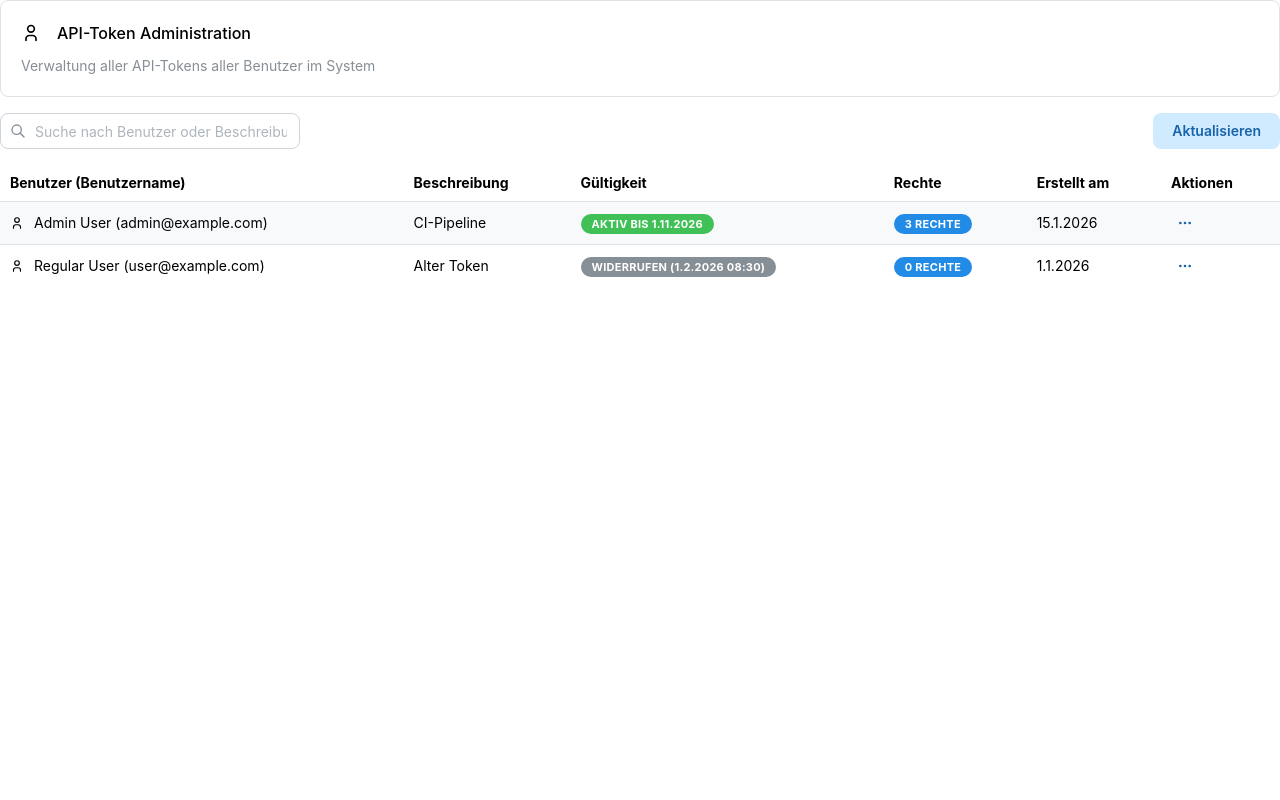
ApiTokenAdminList › zeigt die Backend-Meldung, wenn das Löschen fehlschlägt
Expected: the text "CI-Pipeline" is shown, x1=404 y1=201 x2=571 y2=244
Click the button without text in the row of "Admin User": click(1185, 223) x1=1171 y1=209 x2=1199 y2=237
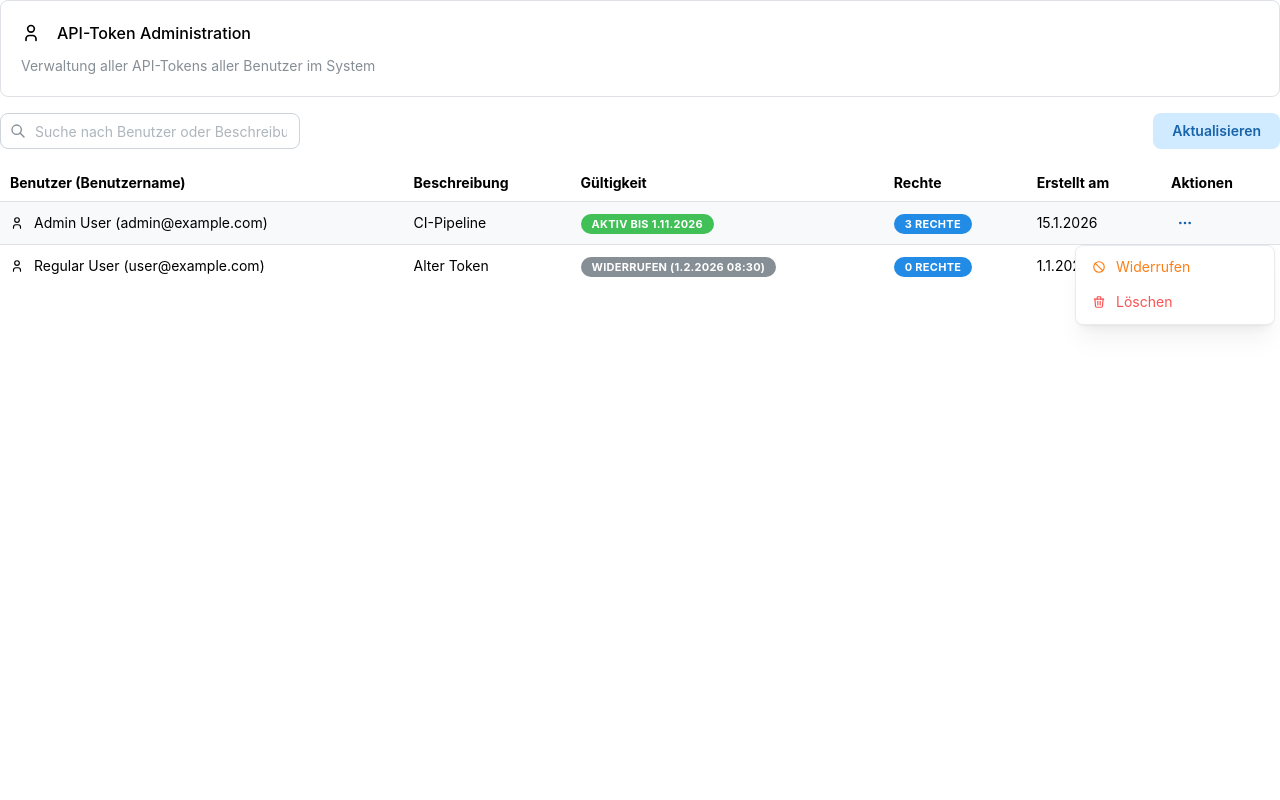
Click the menu item "Löschen": click(1175, 302) x1=1080 y1=285 x2=1270 y2=320
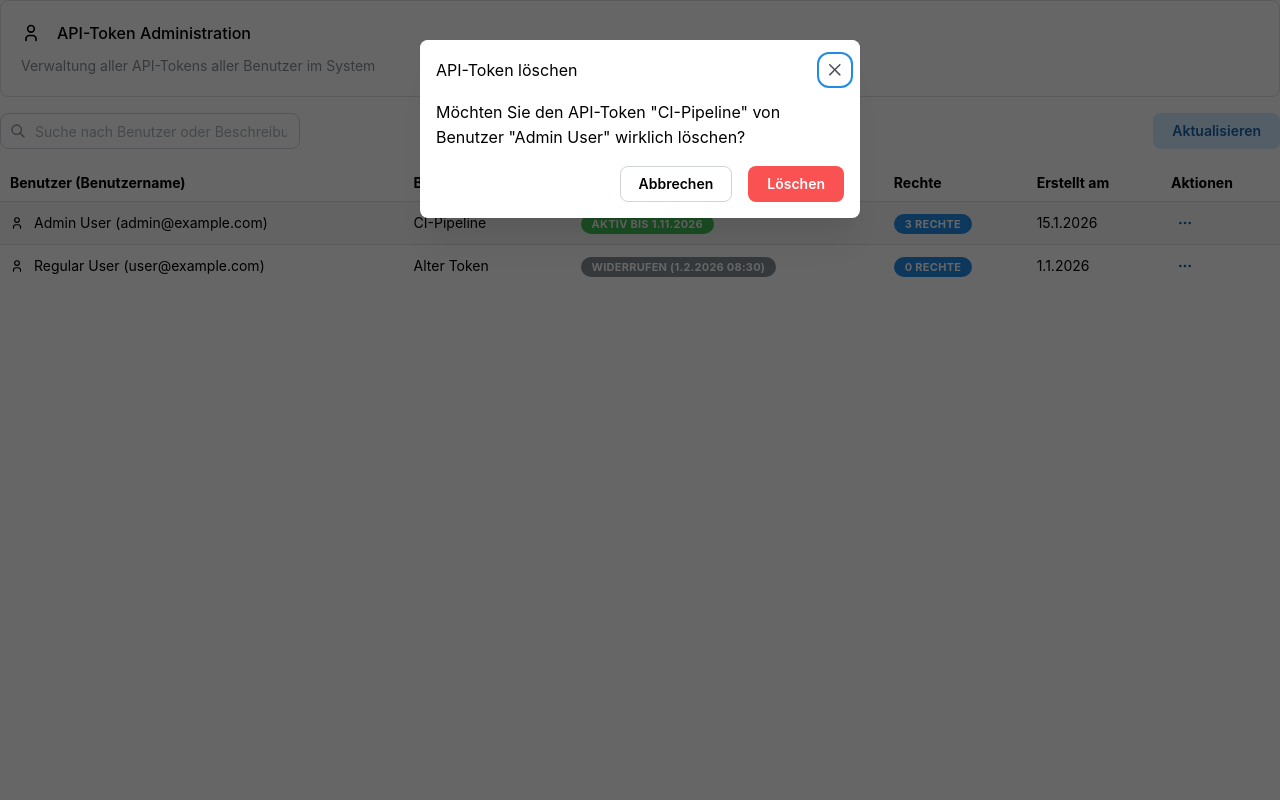
Click the button "Löschen": click(796, 184) x1=748 y1=166 x2=844 y2=202
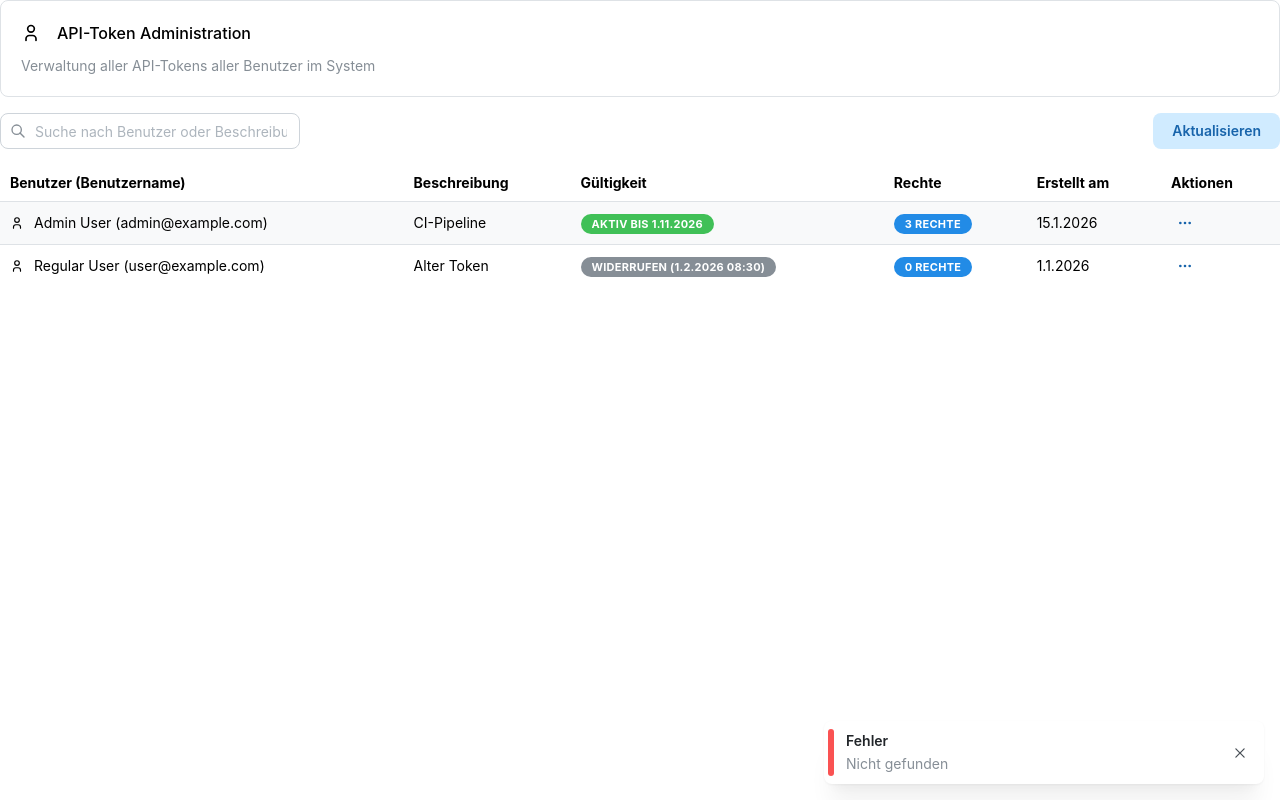
Now the text "Nicht gefunden" is shown, box x1=846 y1=755 x2=948 y2=772
